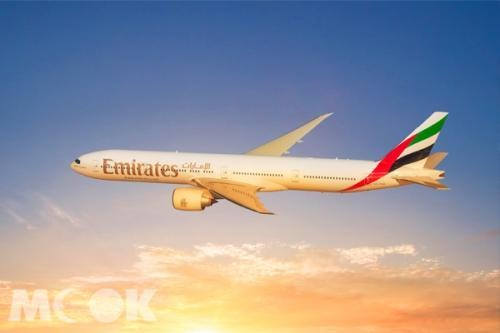airplane: (67, 108, 455, 216)
